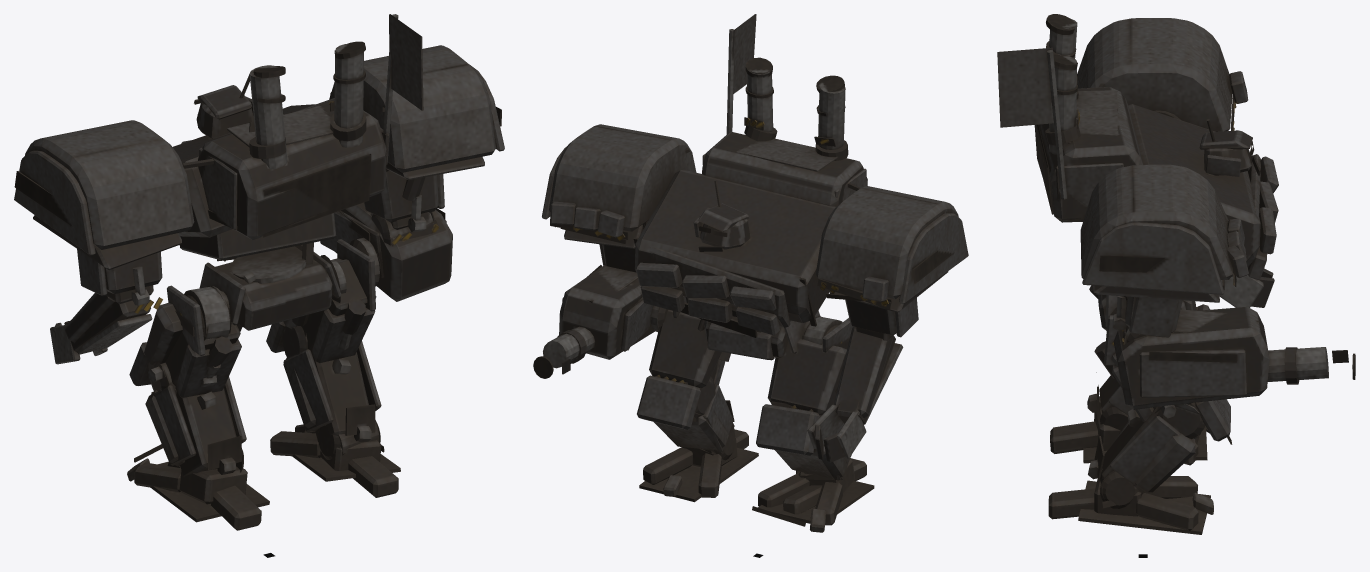
File: chs_warlord_wreck.fbx
The picture shows the model from 3 angles, left to right: view 1: azimuth 30°, elevation 25°; view 2: azimuth 150°, elevation 25°; view 3: azimuth 270°, elevation 25°; orthographic projection. The views are drawn at different scales.
Visible parts, largest first — view 1: torso_bar, base_bar, shinL_bar, shinR_bar, forearmR_bar, thighL_bar, footL_bar, footR_bar, thighR_bar, armR_bar, nano_bar, armL_bar (+3 smaller); view 2: torso_bar, forearmR_bar, thighR_bar, thighL_bar, nano_bar, footL_bar, footR_bar, base_bar, shinR_bar, head_bar, armL_bar, shinL_bar (+2 smaller); view 3: torso_bar, forearmR_bar, footR_bar, shinR_bar, footL_bar, thighR_bar, armR_bar, head_bar, nano_bar, shinL_bar, base_bar, hipR_bar.
Boxes of the visible parts, x1,y1,x2,y2 form: torso_bar: [14, 14, 504, 283]; base_bar: [199, 244, 346, 330]; shinL_bar: [145, 377, 246, 476]; shinR_bar: [283, 341, 381, 442]; forearmR_bar: [320, 202, 452, 301]; thighL_bar: [129, 302, 242, 397]; footL_bar: [127, 444, 269, 530]; footR_bar: [270, 420, 400, 497]; thighR_bar: [266, 258, 376, 362]; armR_bar: [364, 171, 444, 246]; nano_bar: [50, 292, 152, 364]; armL_bar: [77, 249, 162, 313]; torso_bar: [542, 14, 968, 337]; forearmR_bar: [533, 265, 668, 378]; thighR_bar: [637, 310, 730, 429]; thighL_bar: [756, 338, 846, 455]; nano_bar: [807, 327, 903, 462]; footL_bar: [752, 458, 874, 532]; footR_bar: [639, 428, 758, 502]; base_bar: [697, 310, 820, 360]; shinR_bar: [654, 384, 734, 454]; head_bar: [693, 181, 750, 251]; armL_bar: [845, 298, 918, 340]; shinL_bar: [775, 423, 851, 480]; torso_bar: [997, 14, 1278, 302]; forearmR_bar: [1113, 306, 1355, 409]; footR_bar: [1048, 470, 1213, 534]; shinR_bar: [1088, 406, 1199, 493]; footL_bar: [1050, 407, 1232, 465]; thighR_bar: [1094, 341, 1230, 441]; armR_bar: [1112, 296, 1182, 344]; head_bar: [1199, 119, 1260, 176]; nano_bar: [1219, 268, 1274, 307]; shinL_bar: [1087, 372, 1131, 414]; base_bar: [1097, 294, 1192, 330]; hipR_bar: [1104, 307, 1117, 365].
Bounding box in the file's own units: 1092 × 1353 × 809.
2 materials, 2 textured.
